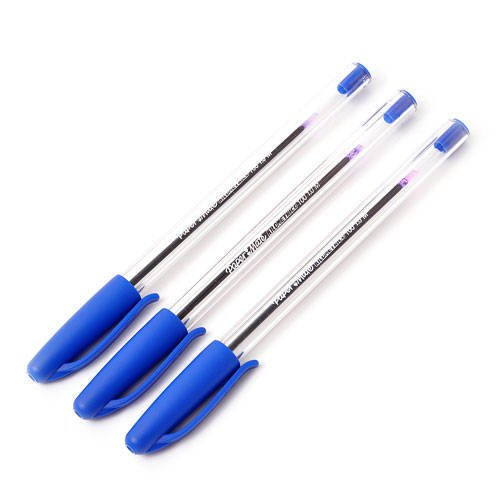Boligrafo: (74, 89, 421, 424), (29, 62, 375, 396), (127, 120, 471, 453)
